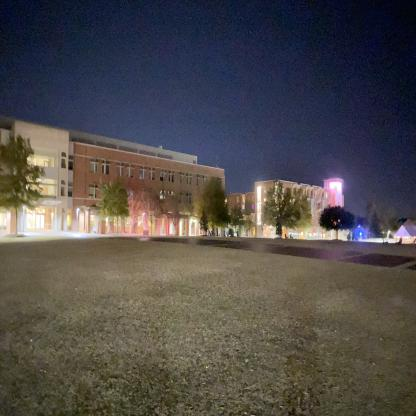eb2: (0, 113, 231, 241)
